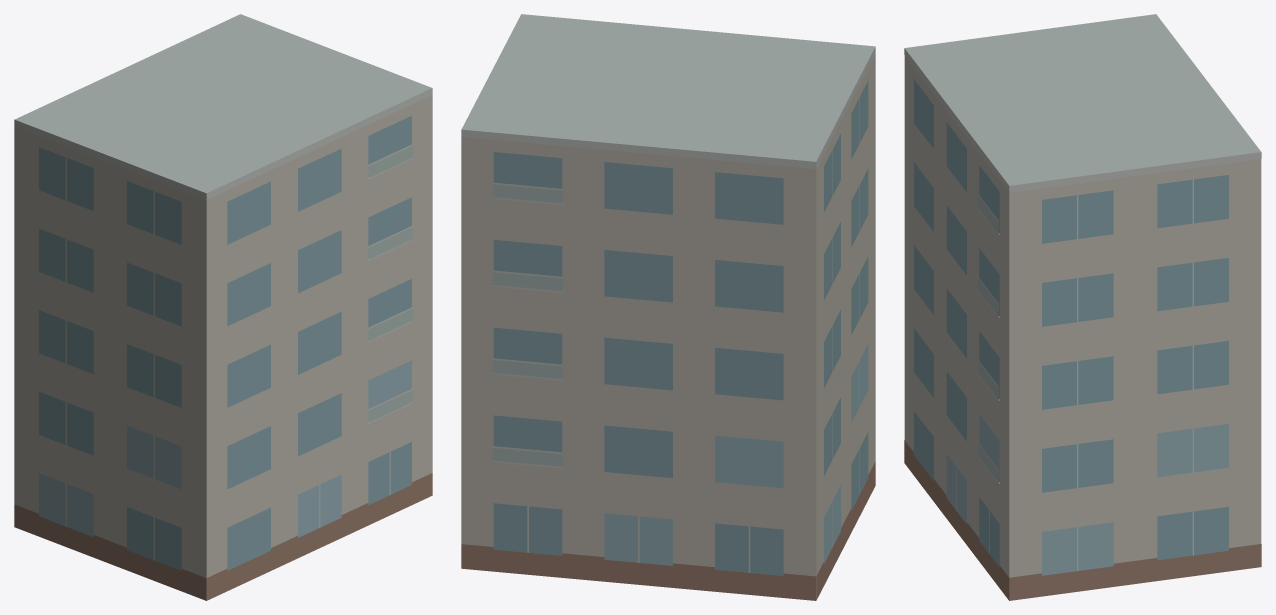
The model's file is survey-upis-32622920.glb.
3 renders of one model, left to right at view 1: azimuth 30°, elevation 25°; view 2: azimuth 150°, elevation 25°; view 3: azimuth 270°, elevation 25°, orthographic. The views are drawn at different scales.
Parts seen in each view (by area): view 1: survey-upis-32622920.tmp; view 2: survey-upis-32622920.tmp; view 3: survey-upis-32622920.tmp.
Boxes of the visible parts, x1,y1,x2,y2 form: survey-upis-32622920.tmp: (14,14,432,600); survey-upis-32622920.tmp: (461,14,875,600); survey-upis-32622920.tmp: (904,14,1261,600).
Size of the model in its own units: 12.98 by 14.6 by 11.39.
